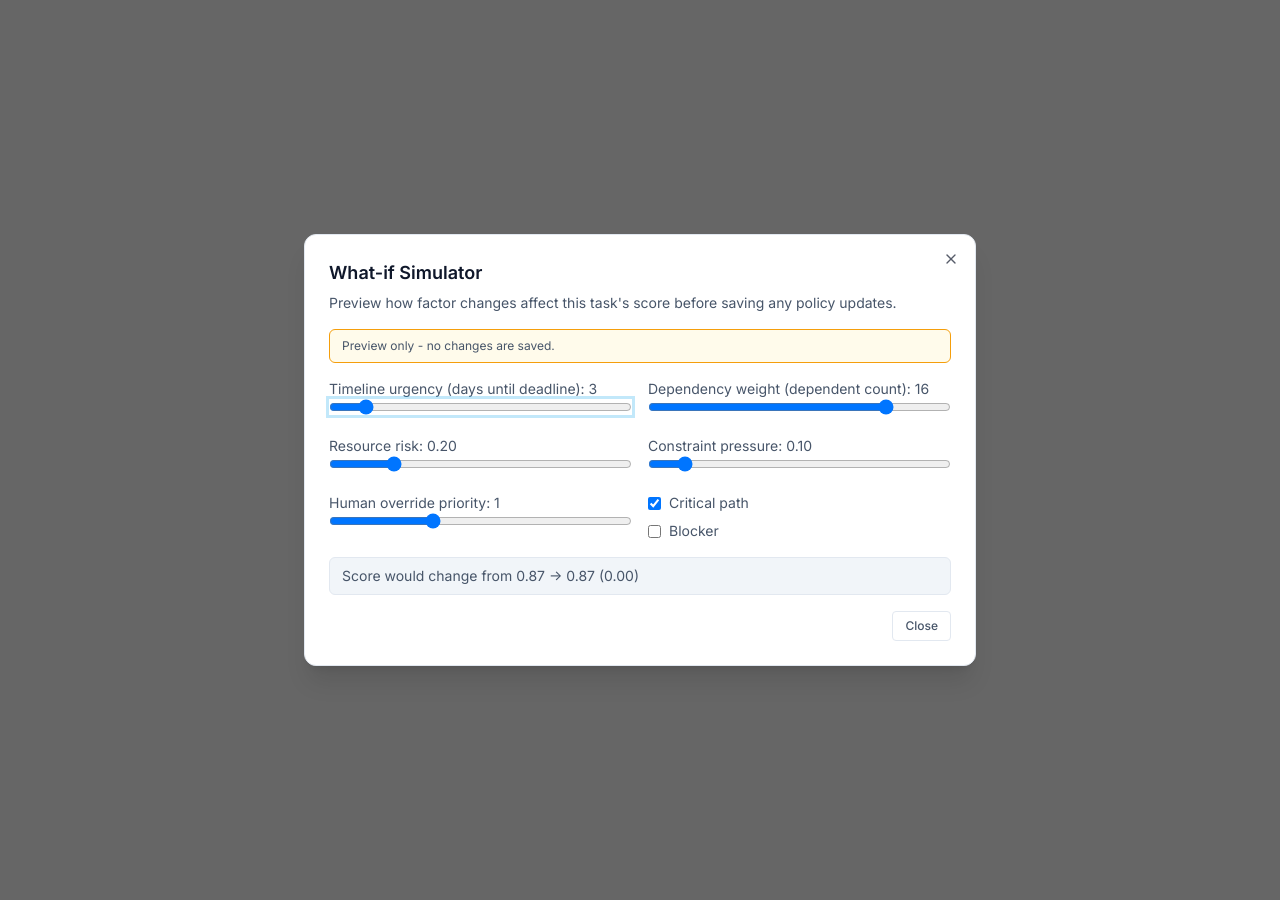
WhatIfSimulator › renders score delta after simulation response
Set the slider labelled "Timeline urgency (days until deadline): 3" to "12" at (452,407), box [329,399,632,415]
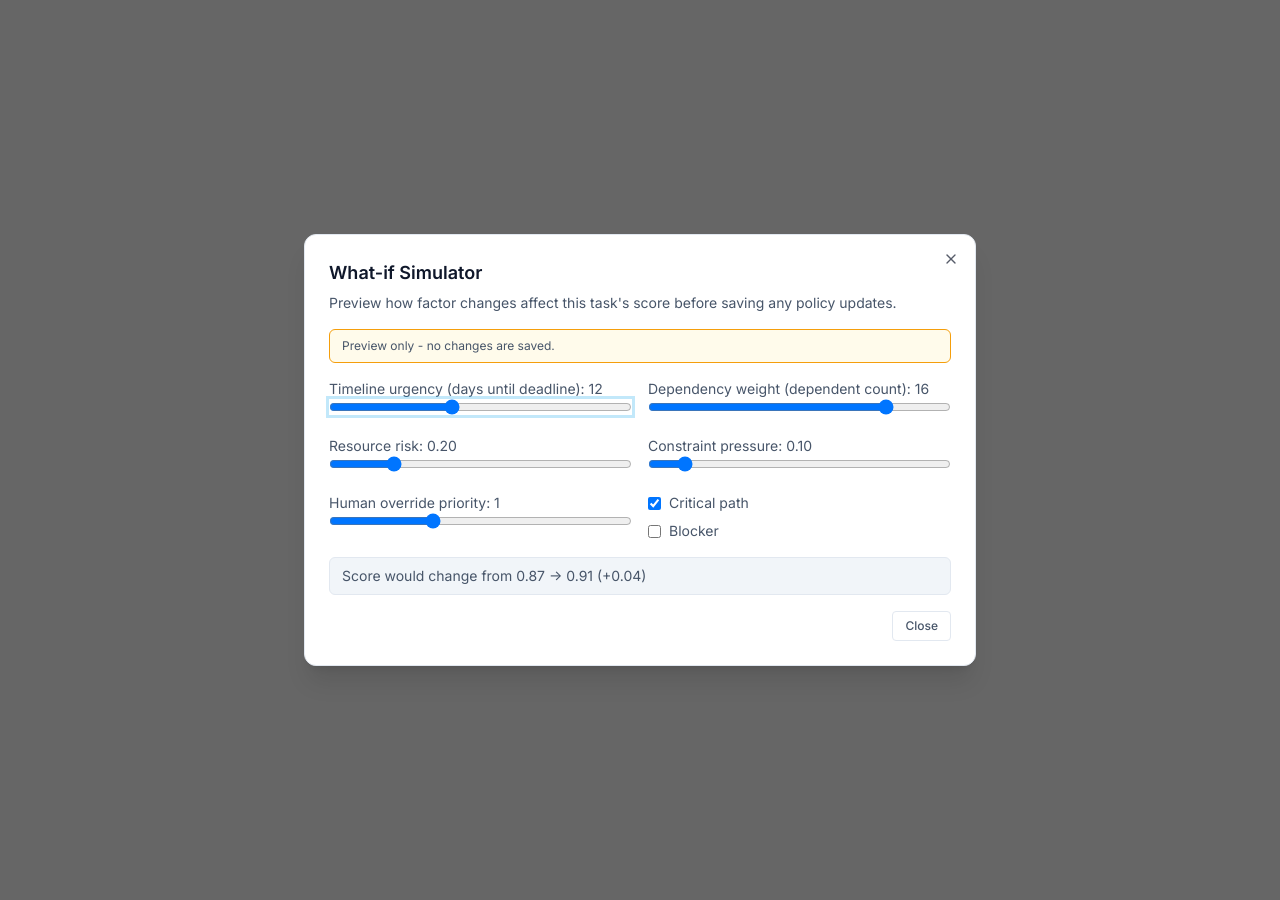
Expected: the text with test id "whatif-delta" reads "Score would change from 0.87 -> 0.91 (+0.04)", [329,557,951,595]
